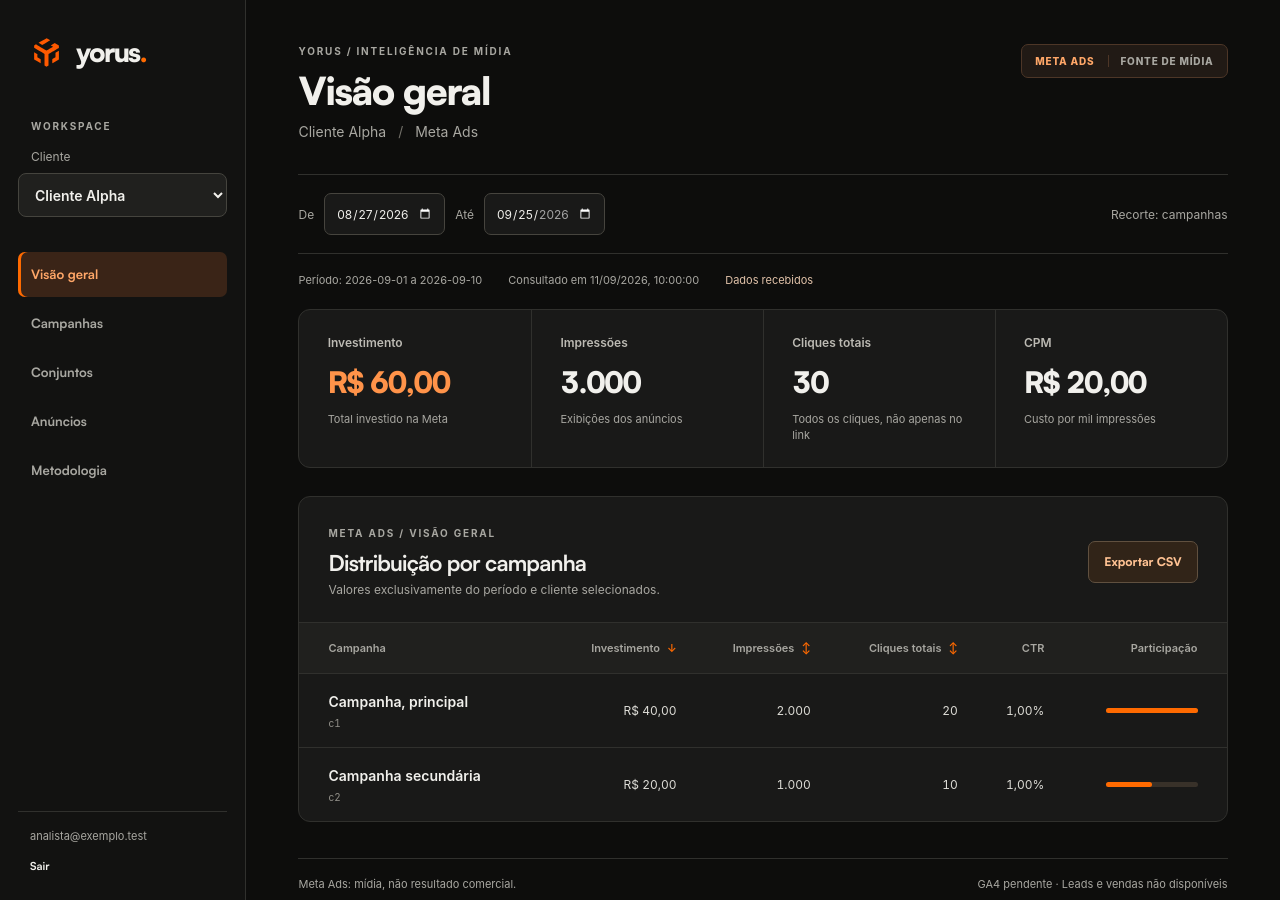
Test: dashboard UI › changes tabs and requests the matching Meta level without inventing GA data
The image size is (1280, 900).
Expected: the heading "Distribuição por campanha" is shown, [328,549,586,576]
Expected: the text "Todos os cliques, não apenas no link" is shown, [792,412,967,444]
Step 1. Click the button "Conjuntos" → coordinates (122, 372), box [18,350,227,395]
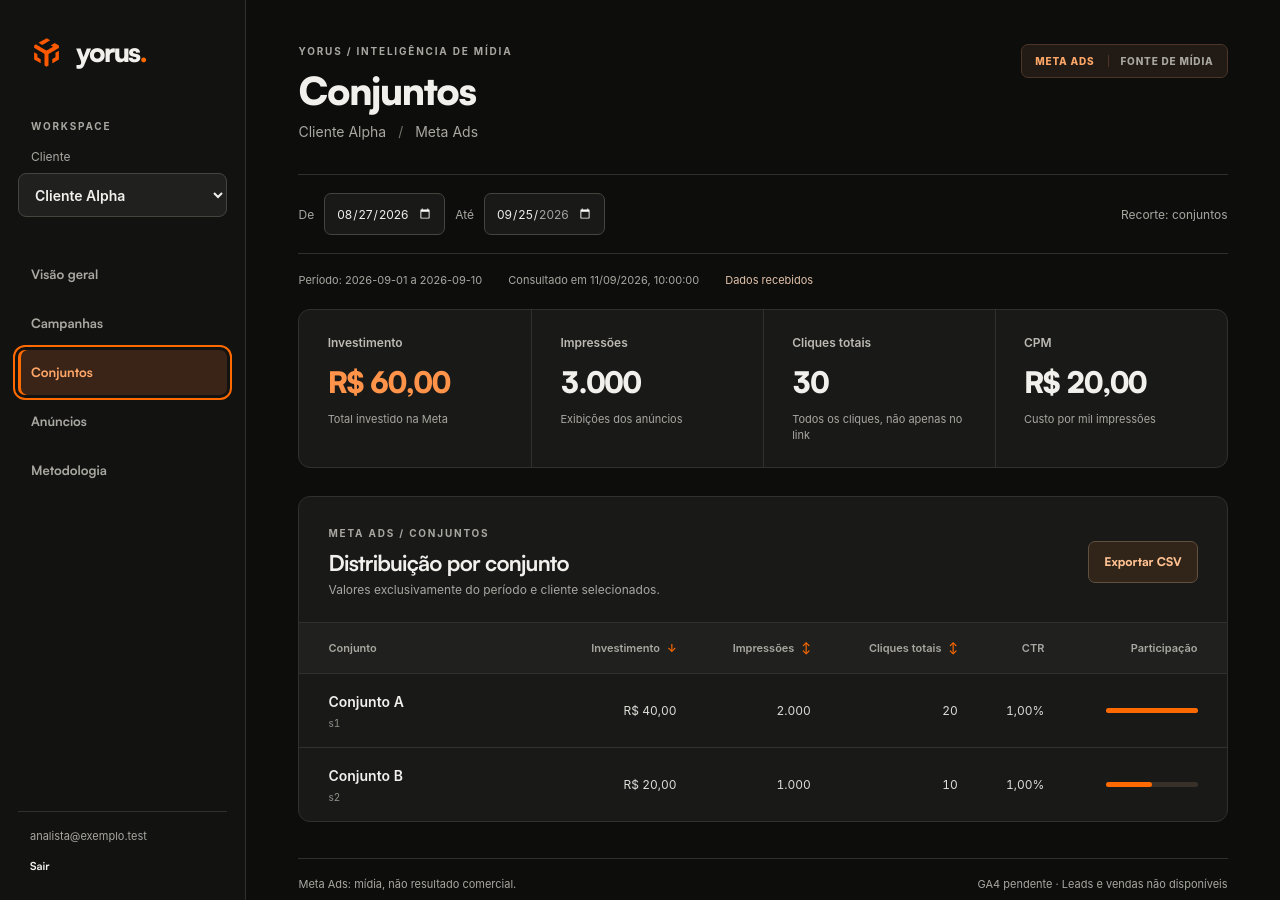
Expected: the heading "Distribuição por conjunto" is shown, [328,549,569,576]
Step 2. Click the button "Anúncios" → coordinates (122, 422), box [18,399,227,444]
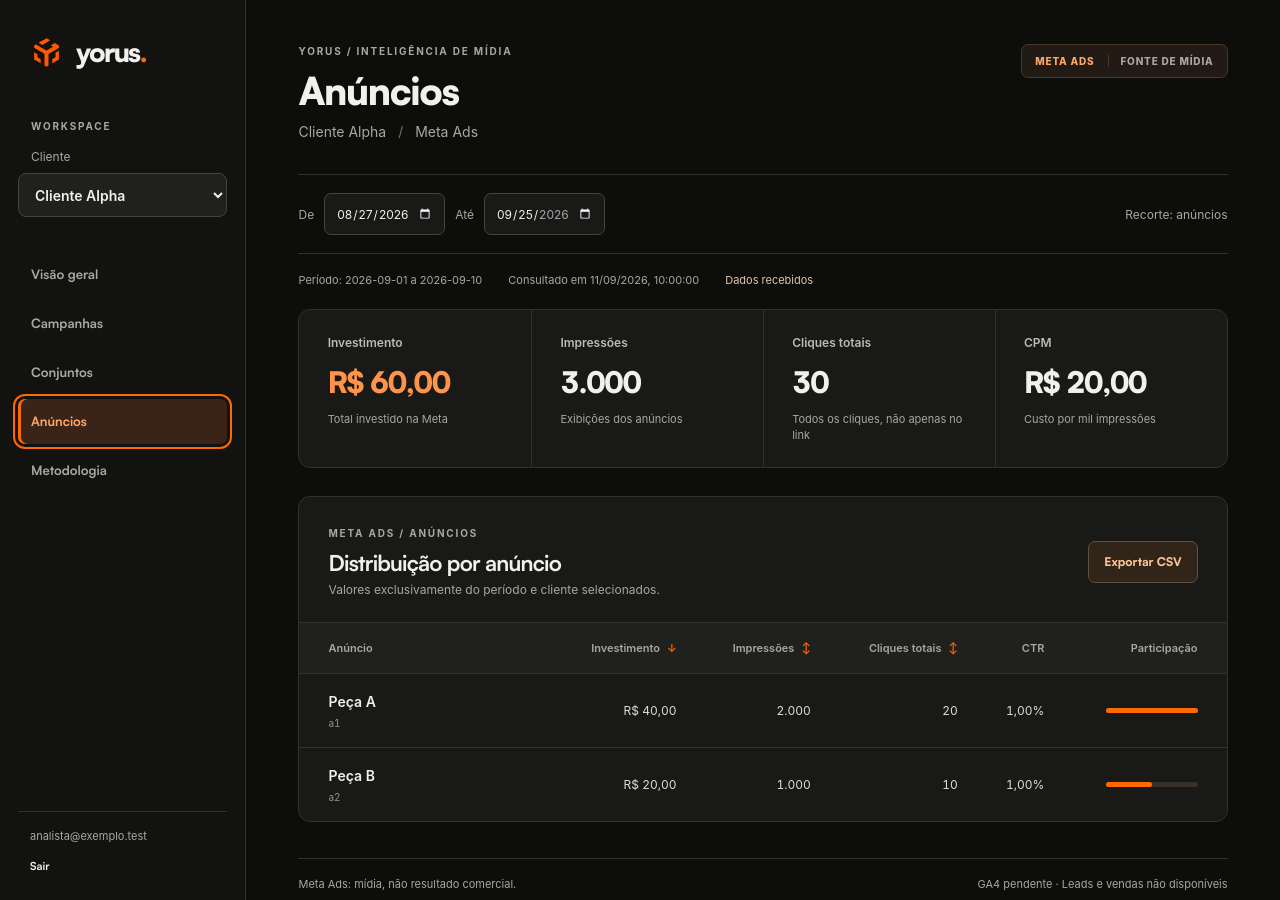
Expected: the heading "Distribuição por anúncio" is shown, [328,549,561,576]
Step 3. Click the button "Metodologia" → coordinates (122, 470), box [18,448,227,493]
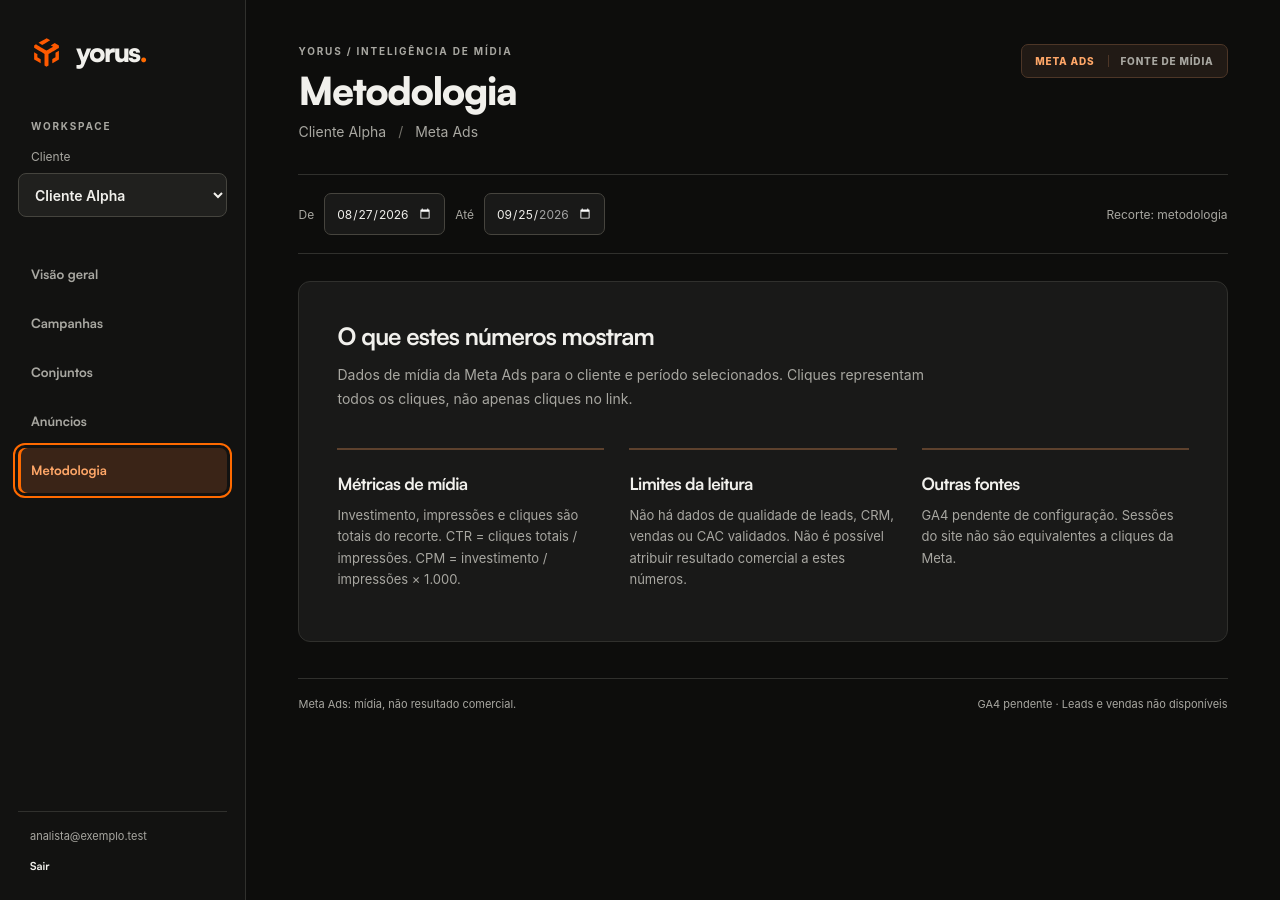
Expected: the text "Não há dados de qualidade de leads" is shown, [630,507,894,587]
Expected: the text "GA4 pendente de configuração" is shown, [922,507,1174,566]
